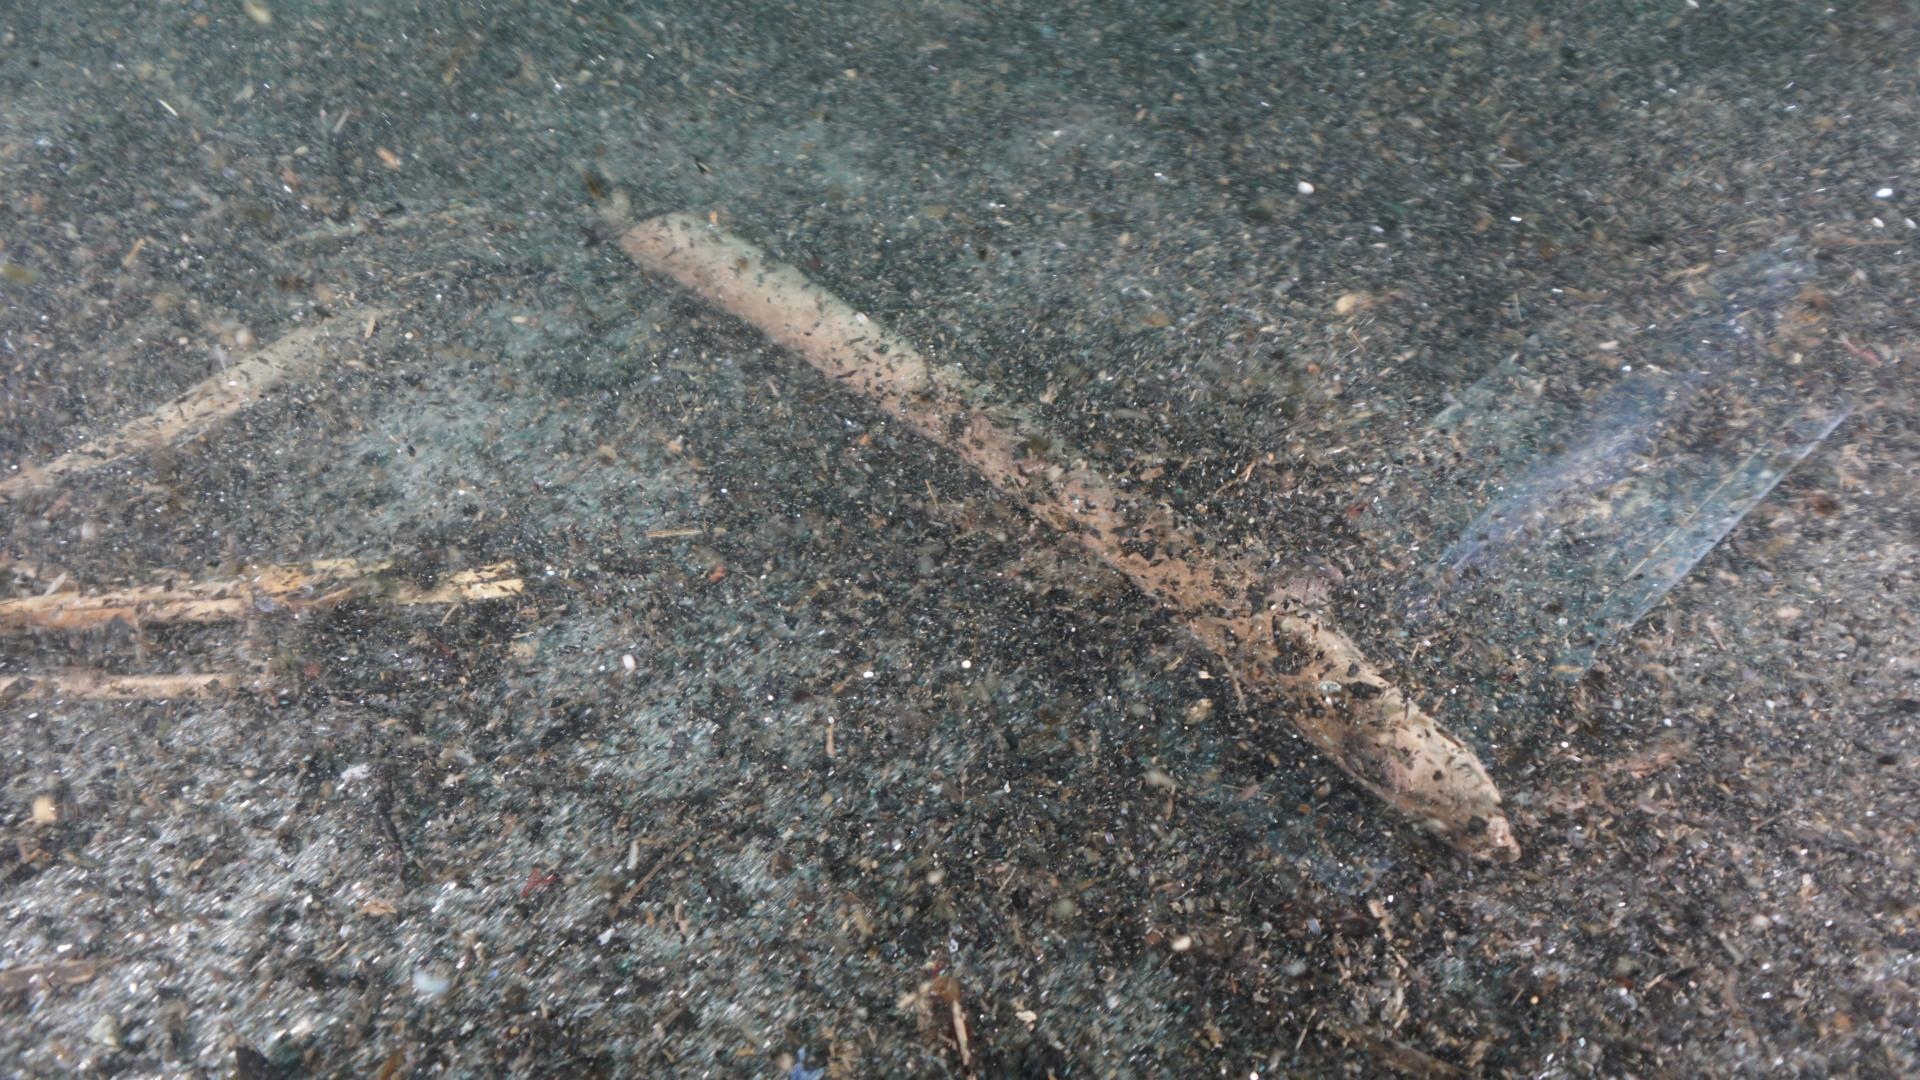wood: (611, 208, 1522, 865)
